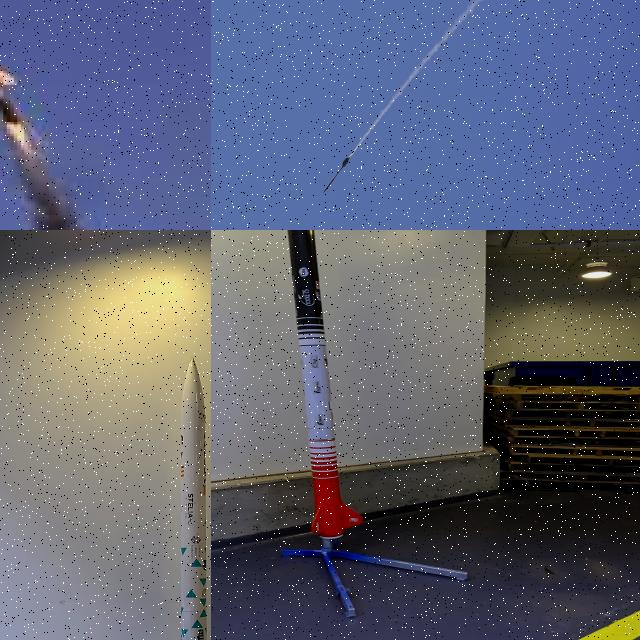Rocket: (287, 230, 363, 539), (181, 356, 208, 640), (323, 156, 351, 194)
